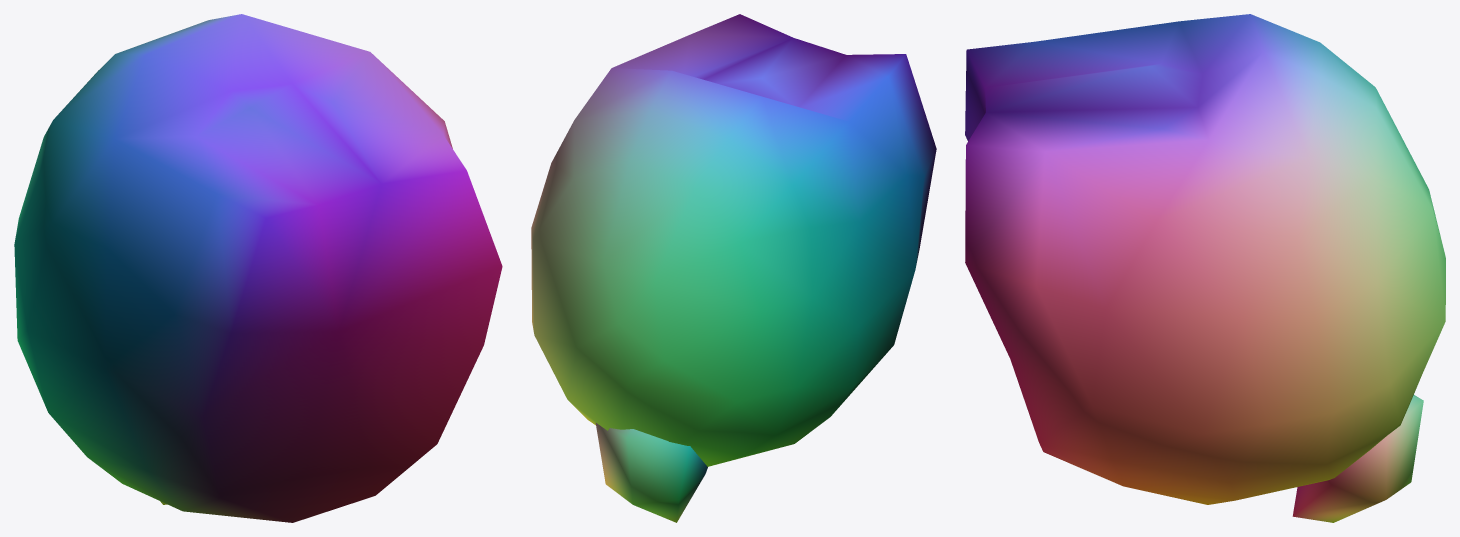
File: SM_Mon_Unburied_Att_Hood_LOD1.fbx
3 renders of one model, left to right at view 1: azimuth 30°, elevation 25°; view 2: azimuth 150°, elevation 25°; view 3: azimuth 270°, elevation 25°, orthographic. The views are drawn at different scales.
Parts seen in each view (by area): view 1: SM_Mon_Unburied_Att_Hood_LOD1; view 2: SM_Mon_Unburied_Att_Hood_LOD1; view 3: SM_Mon_Unburied_Att_Hood_LOD1.
Boxes of the visible parts, <box> form: SM_Mon_Unburied_Att_Hood_LOD1: <box>14,14,502,522</box>; SM_Mon_Unburied_Att_Hood_LOD1: <box>531,14,936,522</box>; SM_Mon_Unburied_Att_Hood_LOD1: <box>965,14,1445,522</box>.
Bounding box in the file's own units: 0.245 × 0.3118 × 0.2766.
